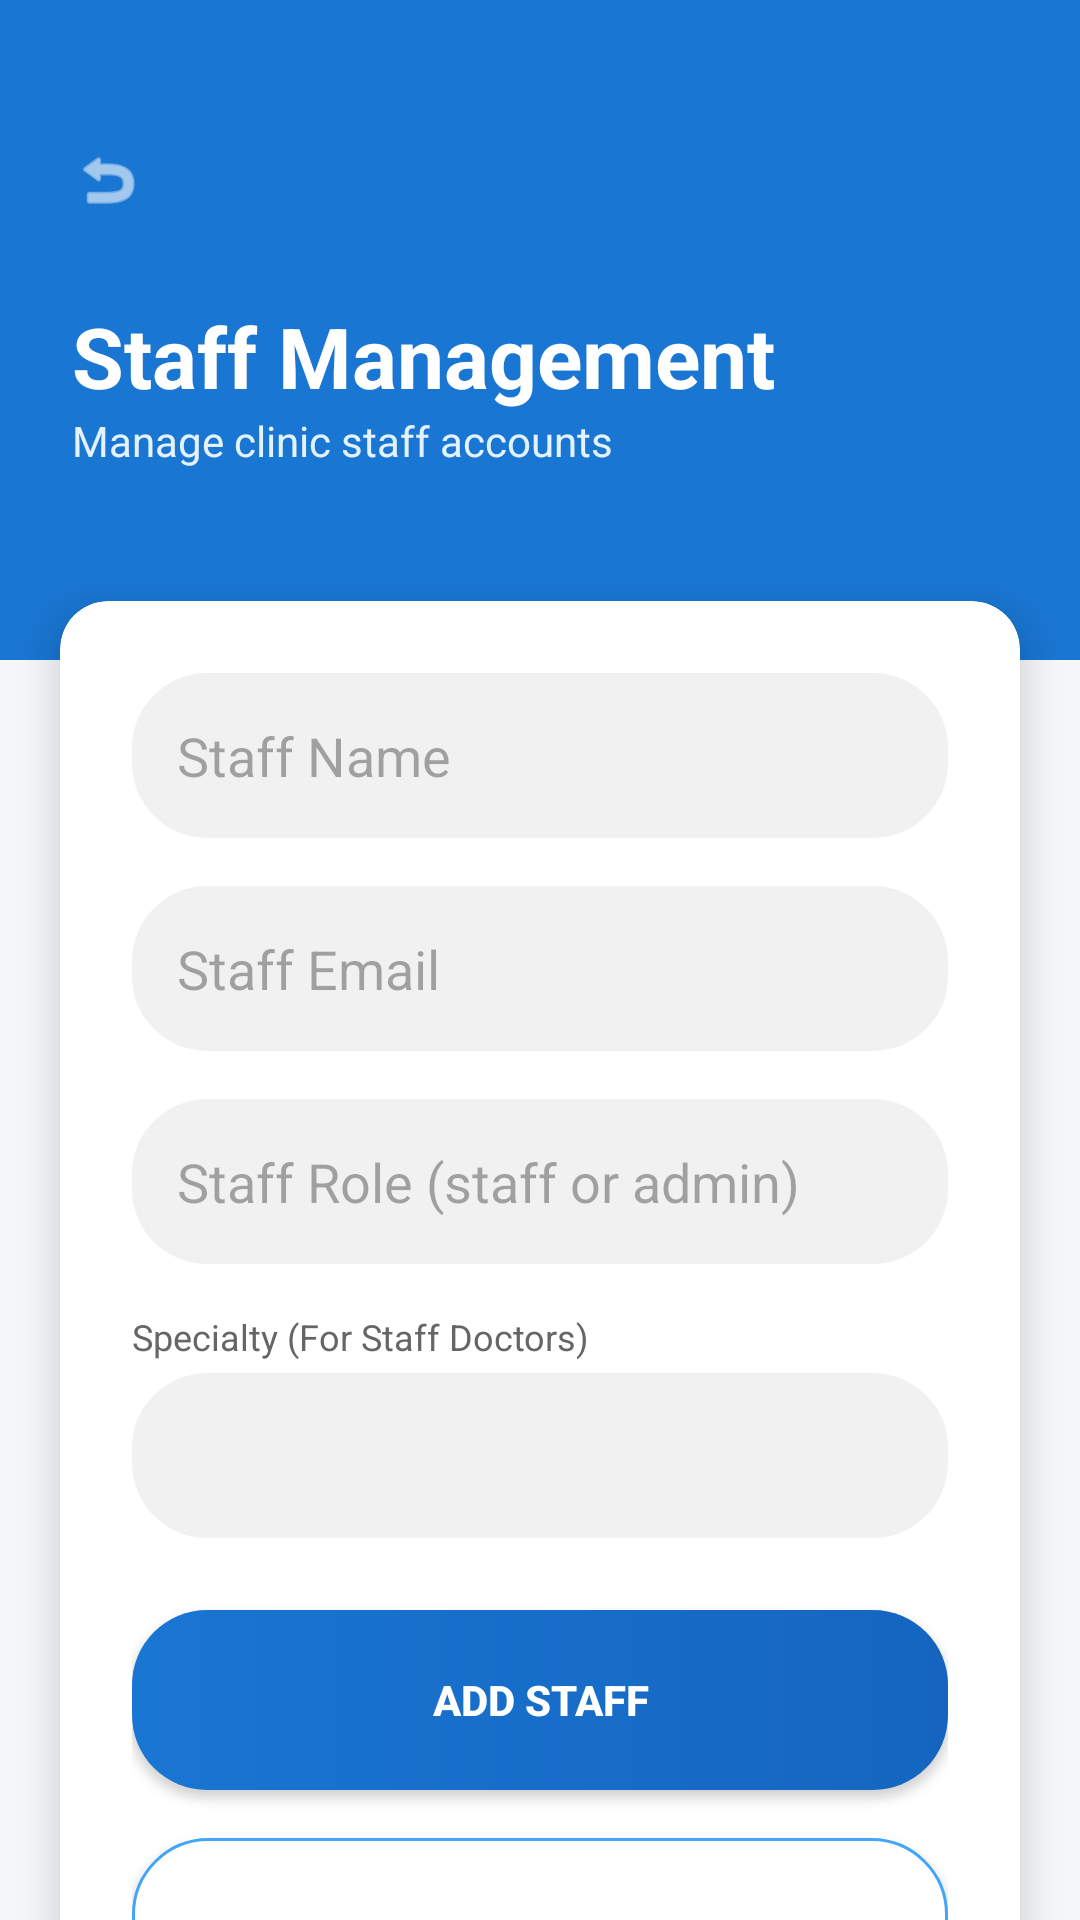

Named icons in this screenshot (1080 × 1920) and their bounding boxes, (x1, y1, x2, y2):
revert: (83, 157, 135, 204)
